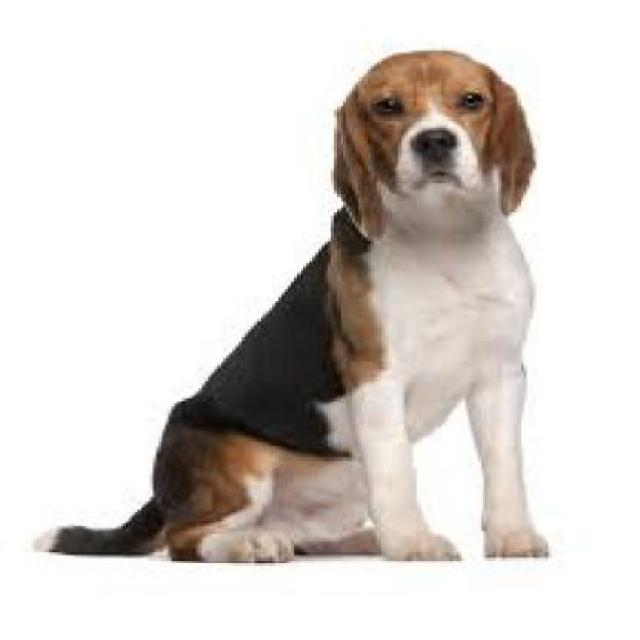Dog: (31, 48, 552, 563)
